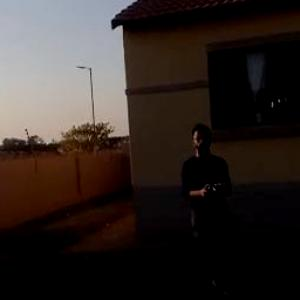follow: (176, 113, 258, 298)
